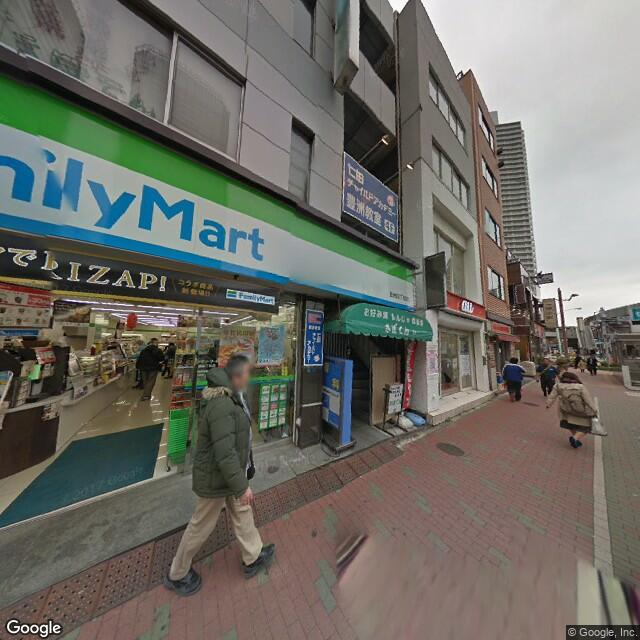family_mart: (2, 69, 414, 310)
